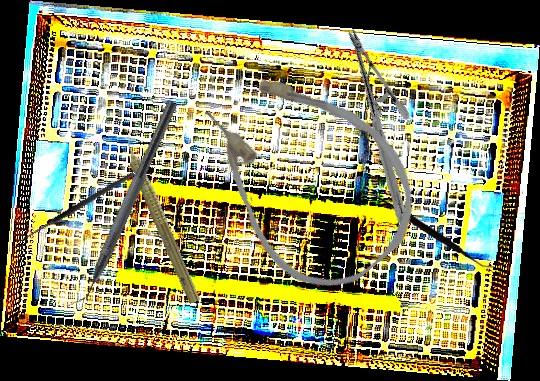Cannula: (172, 34, 444, 314)
Chopper: (62, 94, 179, 316)
Handpiece: (114, 127, 208, 306)
Hook Surgical: (16, 170, 139, 251)
Needle Holder: (278, 26, 477, 227)
Spatula Surgical: (362, 194, 494, 269)
